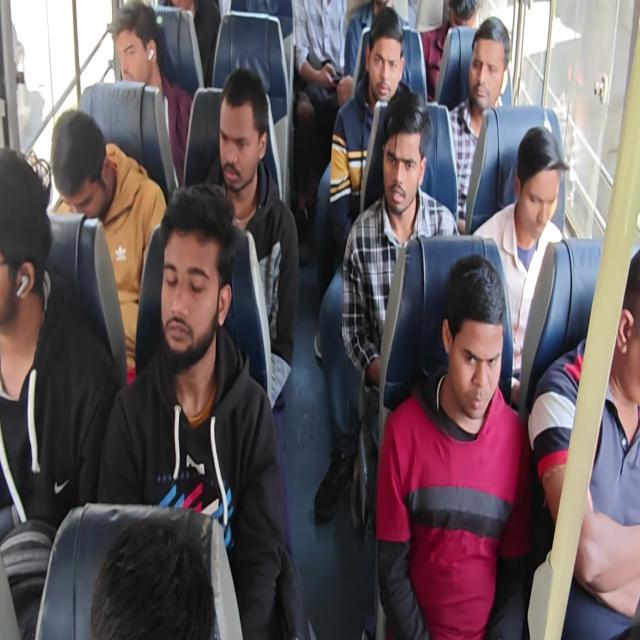person: (79, 510, 225, 640), (0, 148, 61, 334), (432, 277, 506, 418), (149, 205, 218, 351), (49, 100, 115, 220), (516, 124, 572, 240), (372, 117, 432, 225), (218, 86, 268, 194), (111, 0, 164, 90), (461, 24, 502, 120), (614, 259, 640, 405), (369, 31, 398, 102), (444, 0, 478, 47)
